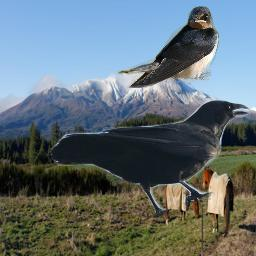Crow: (50, 99, 252, 218)
Swallow: (117, 6, 219, 88)
